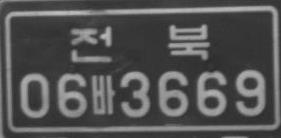0: (19, 71, 50, 119)
3: (120, 70, 151, 118)
6: (157, 70, 189, 117), (195, 70, 227, 117), (57, 71, 88, 118)
9: (234, 68, 266, 116)
바: (90, 74, 116, 115)
전북_D: (70, 24, 210, 63)
